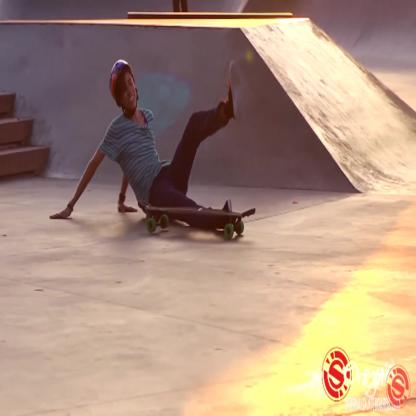Fall_Down: (48, 56, 247, 230)
